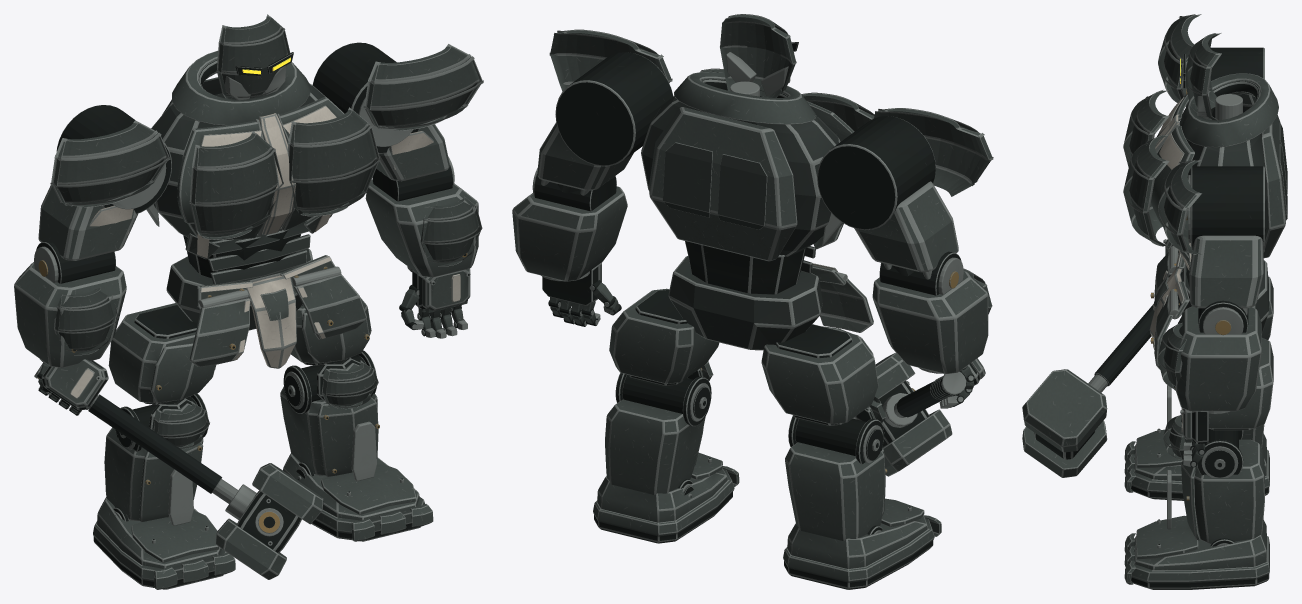
File: tank-t1-harrow.glb
3 views of the same model, side by side, from view 1: azimuth 30°, elevation 25°; view 2: azimuth 150°, elevation 25°; view 3: azimuth 270°, elevation 25° (orthographic). The views are drawn at different scales.
Visible parts, largest first — view 1: chest__clay, elbowR__clay, elbowL__clay, pelvis__metal, ankleR__clay, pauldronR__clay, pauldronL__clay, kneeL__clay, ankleL__clay, kneeR__clay, weaponR__metal, hipR__clay (+22 smaller); view 2: chest__clay, chest__metal, pelvis__metal, shoulderR__metal, shoulderL__metal, elbowR__clay, kneeR__clay, kneeL__clay, elbowL__clay, hipR__clay, ankleR__clay, ankleL__clay (+20 smaller); view 3: chest__clay, elbowL__clay, ankleL__clay, kneeL__clay, weaponR__clay, shoulderL__metal, shoulderL__clay, chest__metal, ankleR__clay, pauldronL__clay, hipL__clay, kneeL__metal (+15 smaller).
Boxes of the visible parts, x1,y1,x2,y2 form: chest__clay: (162, 50, 380, 259); elbowR__clay: (14, 262, 126, 367); elbowL__clay: (365, 179, 482, 277); pelvis__metal: (166, 218, 341, 330); ankleR__clay: (93, 497, 235, 589); pauldronR__clay: (50, 120, 170, 207); pauldronL__clay: (363, 44, 483, 130); kneeL__clay: (280, 360, 378, 476); ankleL__clay: (283, 453, 433, 541); kneeR__clay: (104, 401, 209, 521); weaponR__metal: (34, 363, 301, 553); hipR__clay: (108, 303, 216, 403); chest__clay: (649, 68, 874, 261); chest__metal: (641, 79, 843, 256); pelvis__metal: (668, 241, 847, 350); shoulderR__metal: (817, 116, 935, 279); shoulderL__metal: (541, 52, 673, 195); elbowR__clay: (872, 268, 992, 373); kneeR__clay: (785, 396, 886, 540); kneeL__clay: (605, 361, 713, 494); elbowL__clay: (512, 186, 627, 281); hipR__clay: (761, 324, 878, 424); ankleR__clay: (783, 498, 941, 582); ankleL__clay: (593, 452, 739, 536); chest__clay: (1123, 73, 1285, 270); elbowL__clay: (1157, 306, 1261, 411); ankleL__clay: (1124, 515, 1269, 584); kneeL__clay: (1163, 414, 1264, 544); weaponR__clay: (1022, 369, 1107, 477); shoulderL__metal: (1186, 166, 1264, 315); shoulderL__clay: (1188, 235, 1263, 308); chest__metal: (1155, 80, 1287, 232); ankleR__clay: (1124, 429, 1269, 494); pauldronL__clay: (1158, 160, 1201, 254); hipL__clay: (1208, 338, 1273, 428); kneeL__metal: (1167, 428, 1243, 529).
Size of the model in its own units: 3.6 by 4.02 by 2.
Materials: 11 (10 with a texture image).
